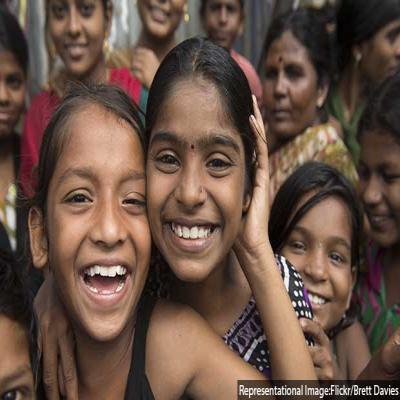happy: (41, 112, 152, 332), (145, 70, 241, 268), (282, 185, 357, 334), (45, 0, 110, 74)
